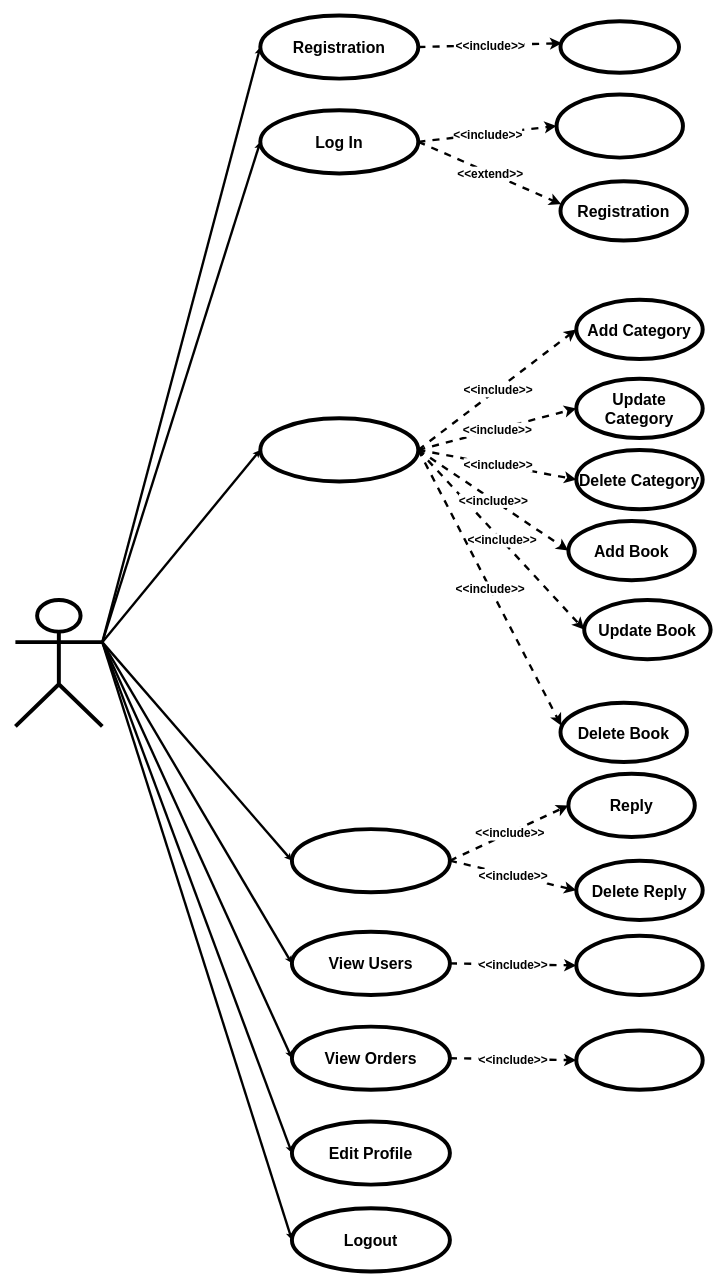
This 726x1287 diagram has some shape labels left out. Here are the shapes that lost their labels. From the top down, the centre of each, then its label:
At point (619, 46): "Successfully Registered".
At point (619, 125): "Incorrect Username Password".
At point (339, 449): "Display".
At point (58, 663): "Admin".
At point (370, 860): "Contact".
At point (639, 965): "Delete User".
At point (639, 1059): "Delete Order".
